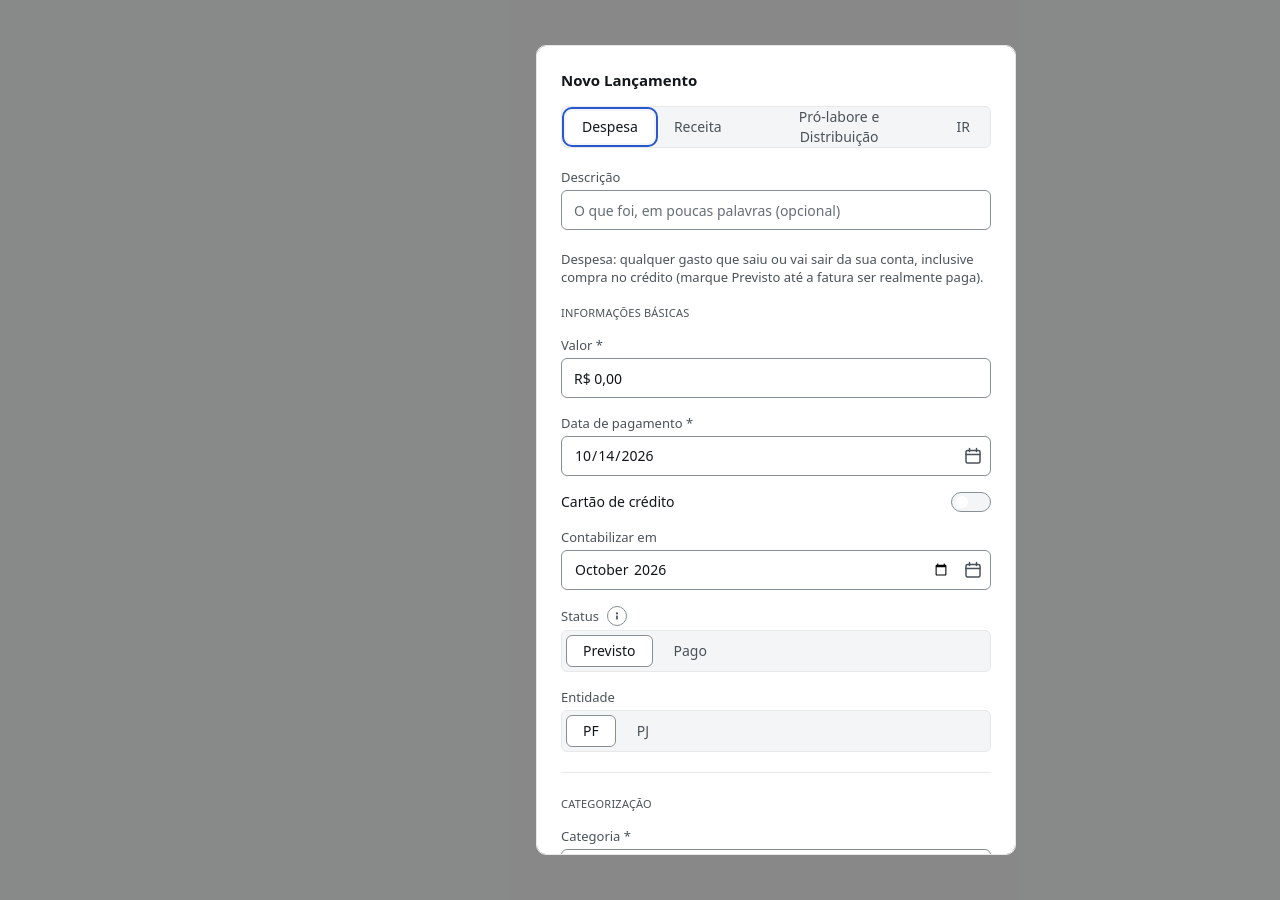
Scenario: Novo Lançamento — "Cartão de crédito" e "Contabilizar em" (ADR-0021) › dono 2026-10-09 — a Receita tem "Cartão de crédito" (um estorno pode ser no cartão), mas não "Contabilizar em"
The width and height of the screenshot is (1280, 900).
Step 1. Click the tab "Receita" → [698, 127], box 658,111 -> 738,143
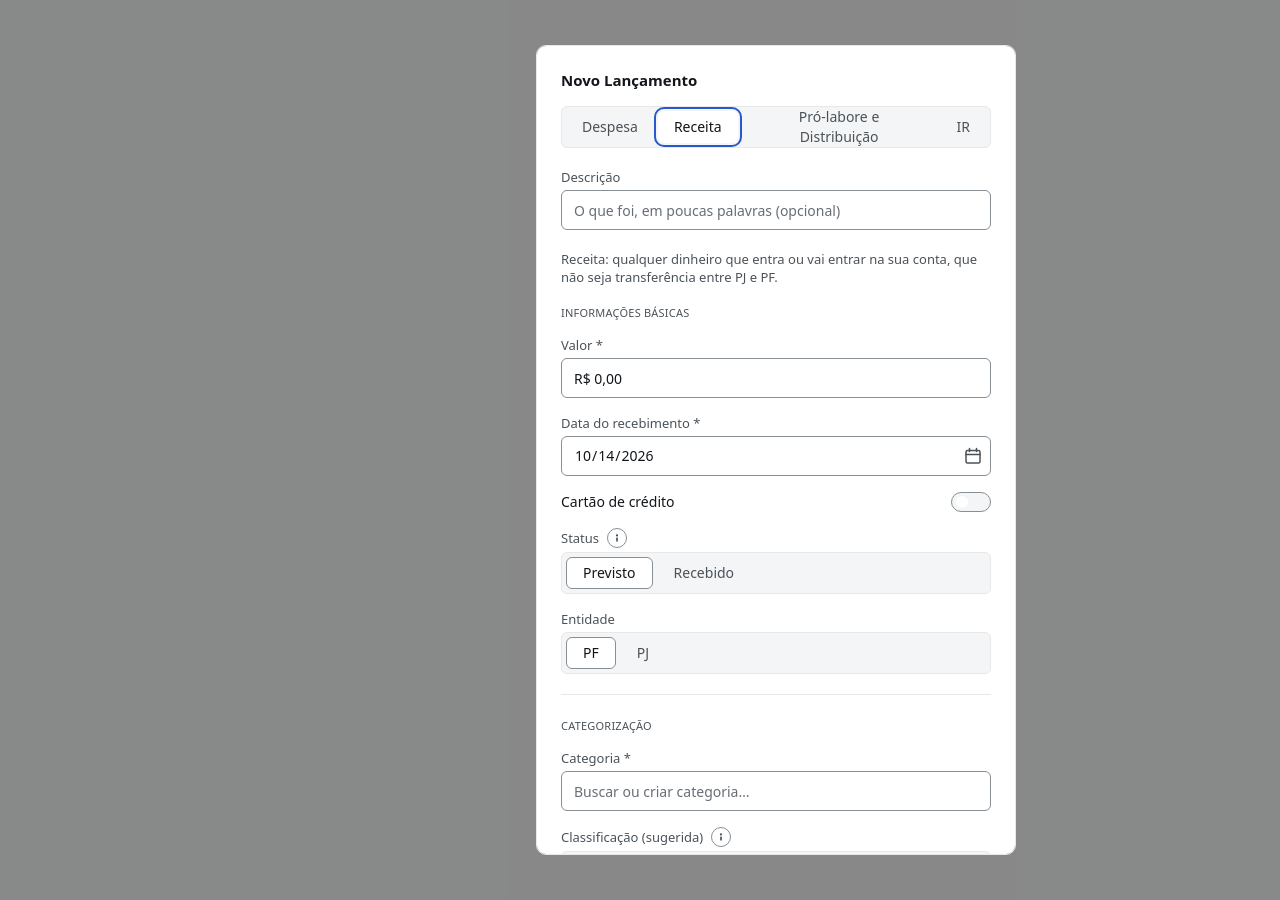
Expected: the switch named "Cartão de crédito" is not checked, 951,492 -> 991,512
Now the label labelled "Contabilizar em" is gone
